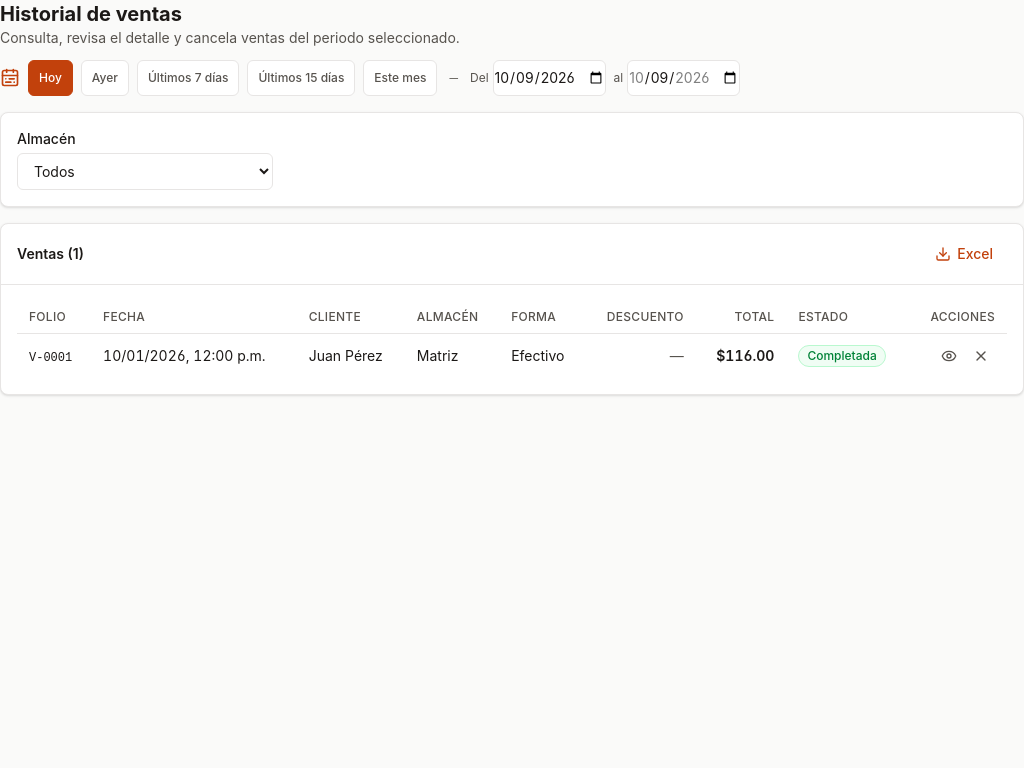
VentasPage › abre el diálogo de cancelación con motivo
The image size is (1024, 768).
Click the button named "Cancelar venta V-0001": [981, 356] box x1=967 y1=342 x2=995 y2=370
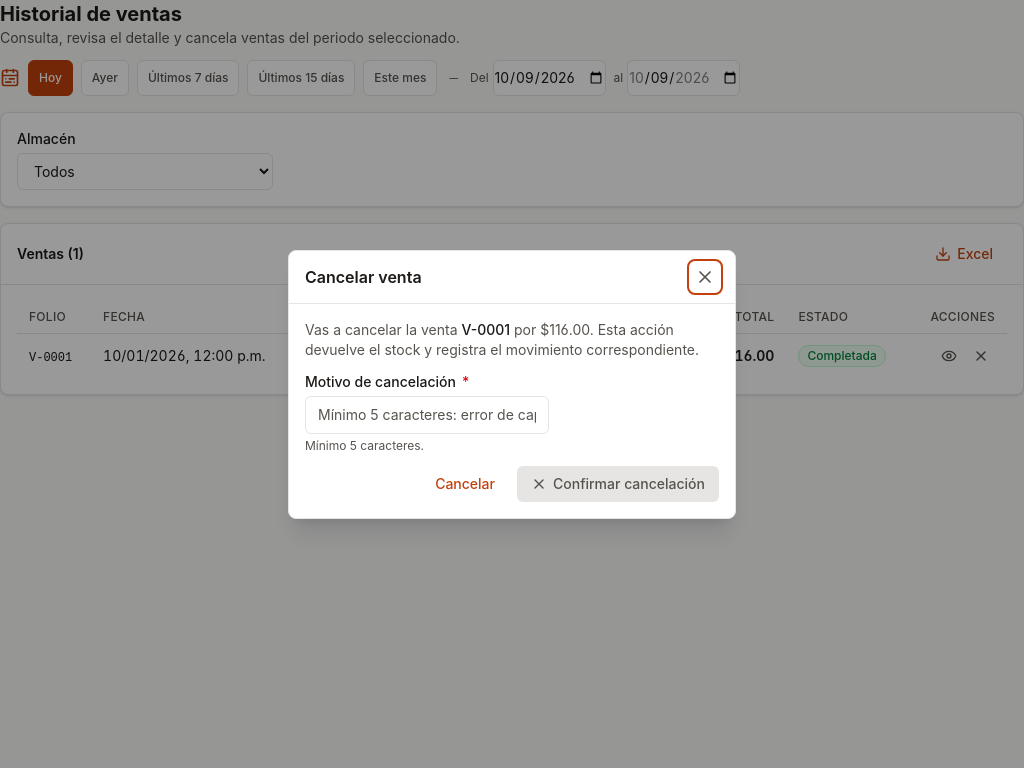
Expected: the dialog "Cancelar venta" is shown, x1=288 y1=250 x2=736 y2=518
Expected: the field labelled "Motivo de cancelación * Mínimo 5 caracteres." is shown, x1=305 y1=396 x2=549 y2=434
